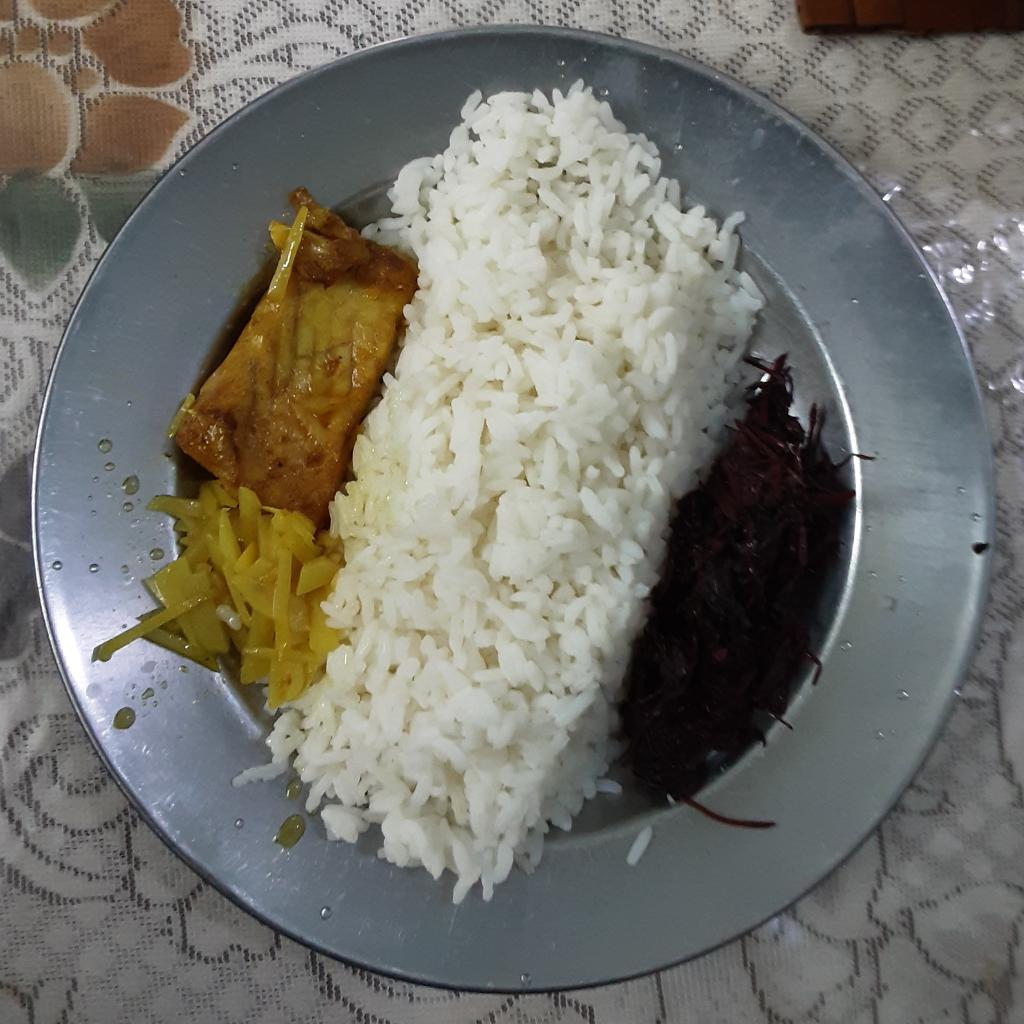fish: (174, 182, 414, 539)
lal-shak: (616, 352, 858, 809)
potato: (93, 483, 360, 717)
rice: (233, 77, 764, 908), (621, 825, 653, 870)
